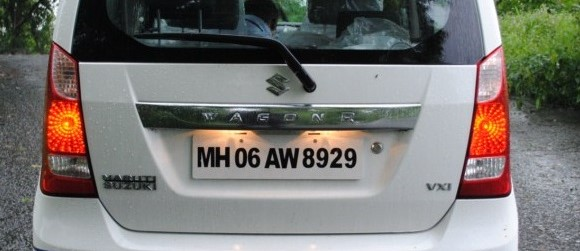MH06AW8929: (192, 131, 364, 179)
